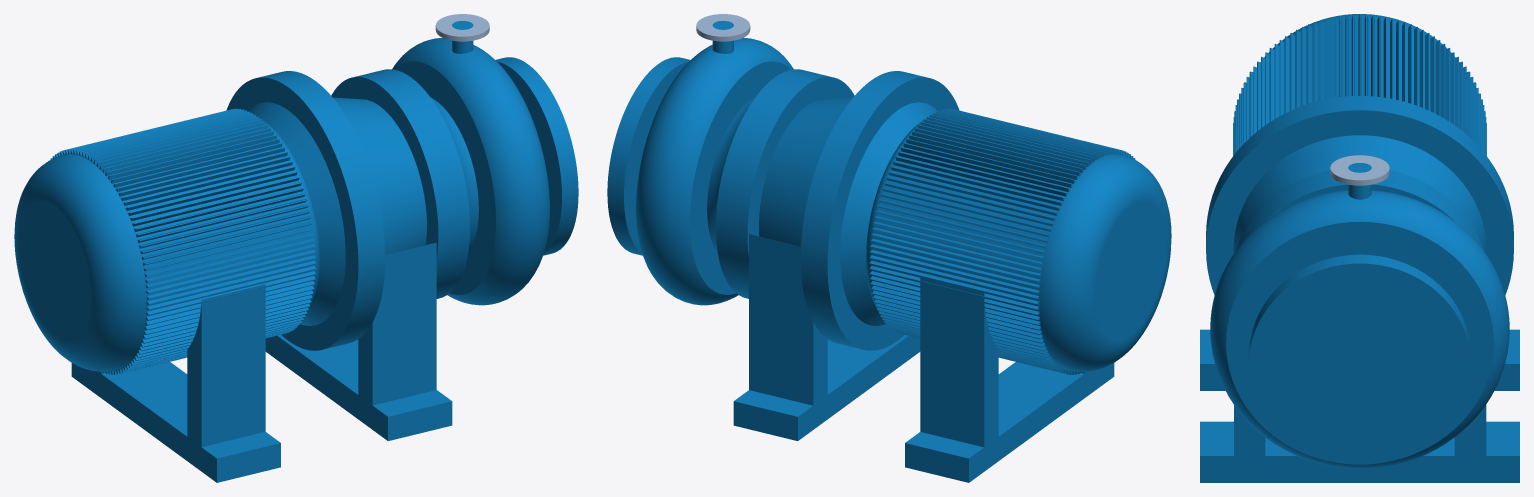
Rendered from dosing-pump.gltf.
3 renders of one model, left to right at view 1: azimuth 30°, elevation 25°; view 2: azimuth 150°, elevation 25°; view 3: azimuth 270°, elevation 25°, orthographic. The views are drawn at different scales.
Parts seen in each view (by area): view 1: 拉伸 [303719], 旋转 [303601], 旋转 [303680], 拉伸 [304214], 拉伸 [304204], 旋转 [303610], 旋转 [303627], 旋转 [303644], 旋转 [303656], 旋转 [303619], 旋转 [303696], 旋转 [303635] (+3 smaller); view 2: 拉伸 [303719], 旋转 [303601], 拉伸 [304214], 旋转 [303680], 拉伸 [304204], 旋转 [303610], 旋转 [303627], 旋转 [303644], 旋转 [303656], 旋转 [303619], 旋转 [303696], 旋转 [303635] (+3 smaller); view 3: 旋转 [303696], 旋转 [303680], 拉伸 [303719], 旋转 [303635], 拉伸 [304204], 旋转 [303644], 旋转 [303610], 旋转 [303627], 旋转 [303664], 拉伸 [304214], 旋转 [303656], 拉伸 [304238] (+2 smaller).
Boxes of the visible parts, bbox=[...] form: 拉伸 [303719]: bbox=[50, 108, 316, 374]; 旋转 [303601]: bbox=[14, 154, 146, 371]; 旋转 [303680]: bbox=[392, 38, 549, 305]; 拉伸 [304214]: bbox=[71, 284, 280, 482]; 拉伸 [304204]: bbox=[265, 242, 452, 440]; 旋转 [303610]: bbox=[64, 118, 319, 370]; 旋转 [303627]: bbox=[226, 74, 371, 350]; 旋转 [303644]: bbox=[333, 97, 426, 254]; 旋转 [303656]: bbox=[331, 73, 454, 293]; 旋转 [303619]: bbox=[248, 102, 345, 325]; 旋转 [303696]: bbox=[495, 57, 578, 255]; 旋转 [303635]: bbox=[271, 71, 385, 346]; 拉伸 [303719]: bbox=[869, 108, 1136, 374]; 旋转 [303601]: bbox=[1039, 154, 1171, 371]; 拉伸 [304214]: bbox=[905, 276, 1114, 482]; 旋转 [303680]: bbox=[636, 37, 793, 305]; 拉伸 [304204]: bbox=[733, 234, 920, 440]; 旋转 [303610]: bbox=[866, 118, 1121, 370]; 旋转 [303627]: bbox=[814, 74, 959, 350]; 旋转 [303644]: bbox=[759, 97, 852, 246]; 旋转 [303656]: bbox=[731, 73, 854, 293]; 旋转 [303619]: bbox=[840, 102, 937, 325]; 旋转 [303696]: bbox=[607, 57, 690, 255]; 旋转 [303635]: bbox=[800, 71, 914, 346]; 旋转 [303696]: bbox=[1249, 254, 1470, 464]; 旋转 [303680]: bbox=[1210, 190, 1509, 468]; 拉伸 [303719]: bbox=[1233, 14, 1486, 155]; 旋转 [303635]: bbox=[1206, 103, 1513, 294]; 拉伸 [304204]: bbox=[1200, 405, 1519, 482]; 旋转 [303644]: bbox=[1233, 135, 1486, 253]; 旋转 [303610]: bbox=[1284, 18, 1435, 113]; 旋转 [303627]: bbox=[1206, 95, 1513, 238]; 旋转 [303664]: bbox=[1243, 178, 1476, 241]; 拉伸 [304214]: bbox=[1200, 329, 1519, 390]; 旋转 [303656]: bbox=[1236, 170, 1483, 250]; 拉伸 [304238]: bbox=[1330, 155, 1389, 185].
Bounding box in the file's own units: 0.5075 × 0.335 × 0.27.
